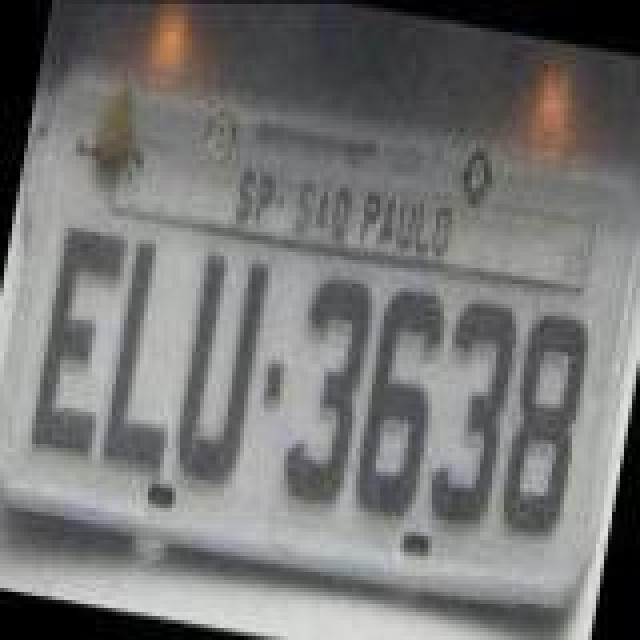3: (270, 262, 386, 510), (420, 294, 524, 534)
6: (346, 276, 454, 520)
8: (490, 304, 598, 544)
E: (26, 214, 134, 458)
L: (100, 236, 204, 468)
U: (164, 248, 276, 492)
